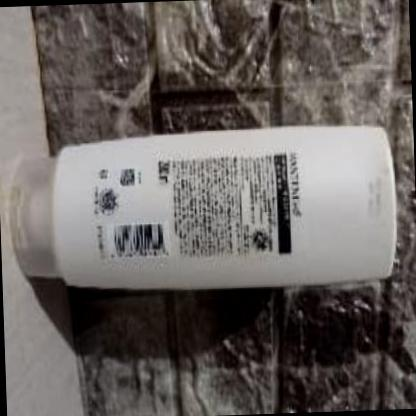objects: (3, 124, 396, 302)
